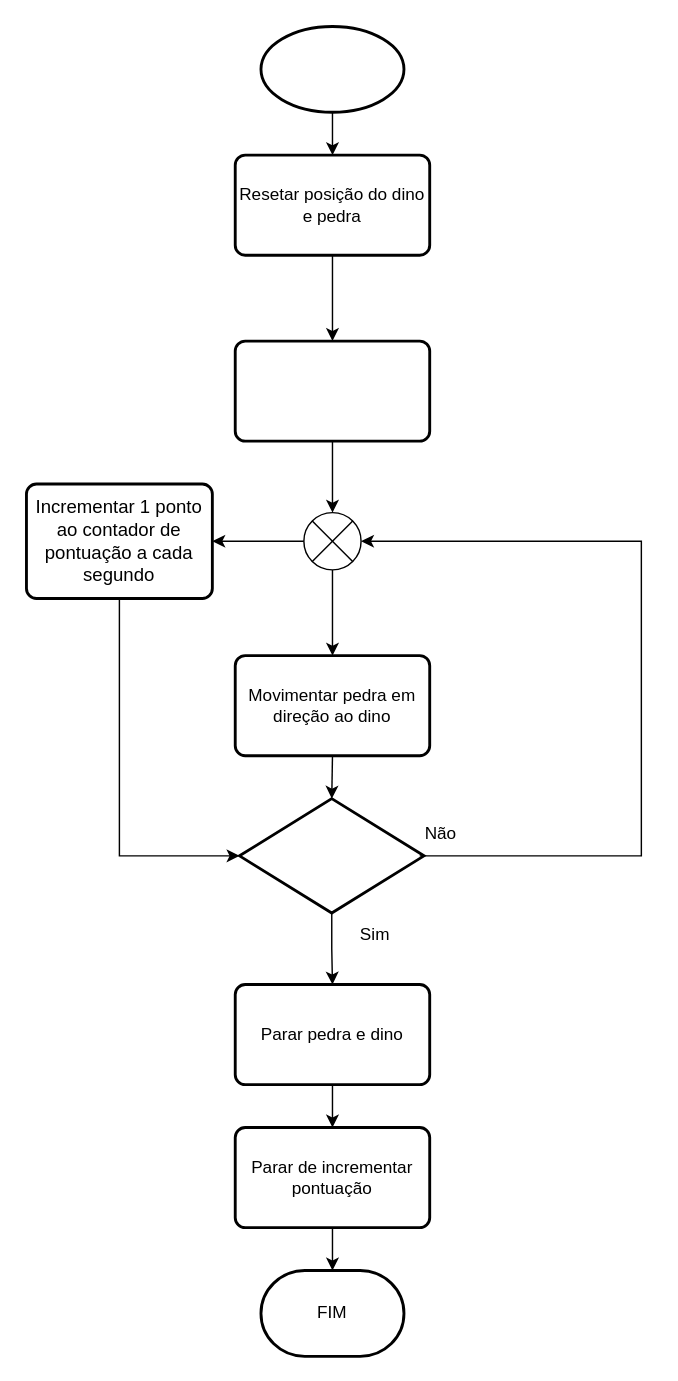
Some shapes in this 678 by 1381 pixel diagram are drawn without their labels. Here are the shapes that lost their labels. From the top down, the centre of each, then its label:
At point (332, 68): "Início".
At point (331, 390): "Resetar pontuação".
At point (331, 855): "Dino encostou na pedra?".
